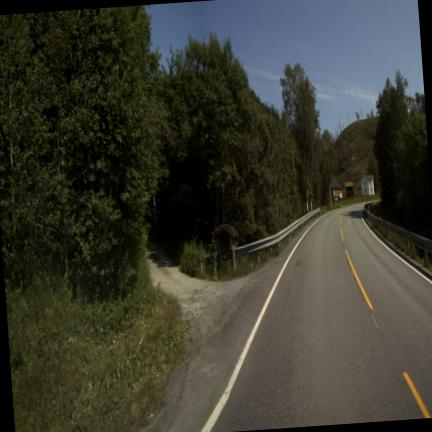Road: (172, 204, 431, 431)
